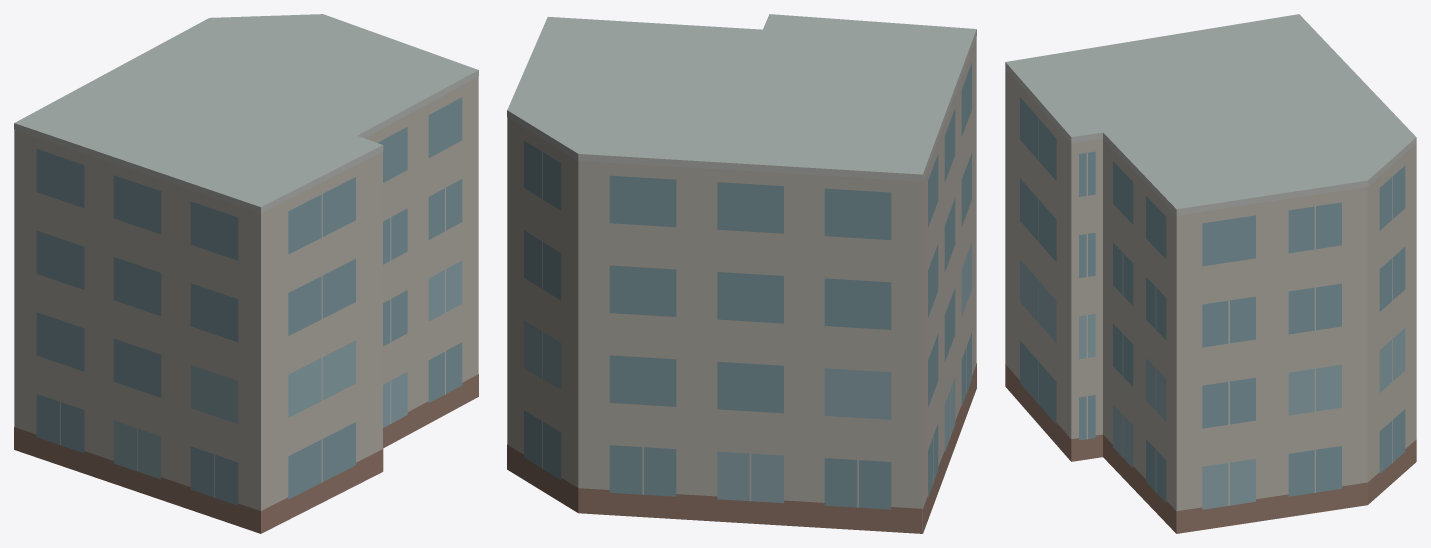
Rendered from survey-upis-32986433.glb.
3 views of the same model, side by side, from view 1: azimuth 30°, elevation 25°; view 2: azimuth 150°, elevation 25°; view 3: azimuth 270°, elevation 25° (orthographic). The views are drawn at different scales.
Parts seen in each view (by area): view 1: survey-upis-32986433.tmp; view 2: survey-upis-32986433.tmp; view 3: survey-upis-32986433.tmp.
Part boxes in pixels (x1,y1,x2,y2): survey-upis-32986433.tmp: (14,14,478,533); survey-upis-32986433.tmp: (507,14,976,533); survey-upis-32986433.tmp: (1005,14,1416,533).
Bounding box in the file's own units: 16.23 × 12.57 × 14.44.
